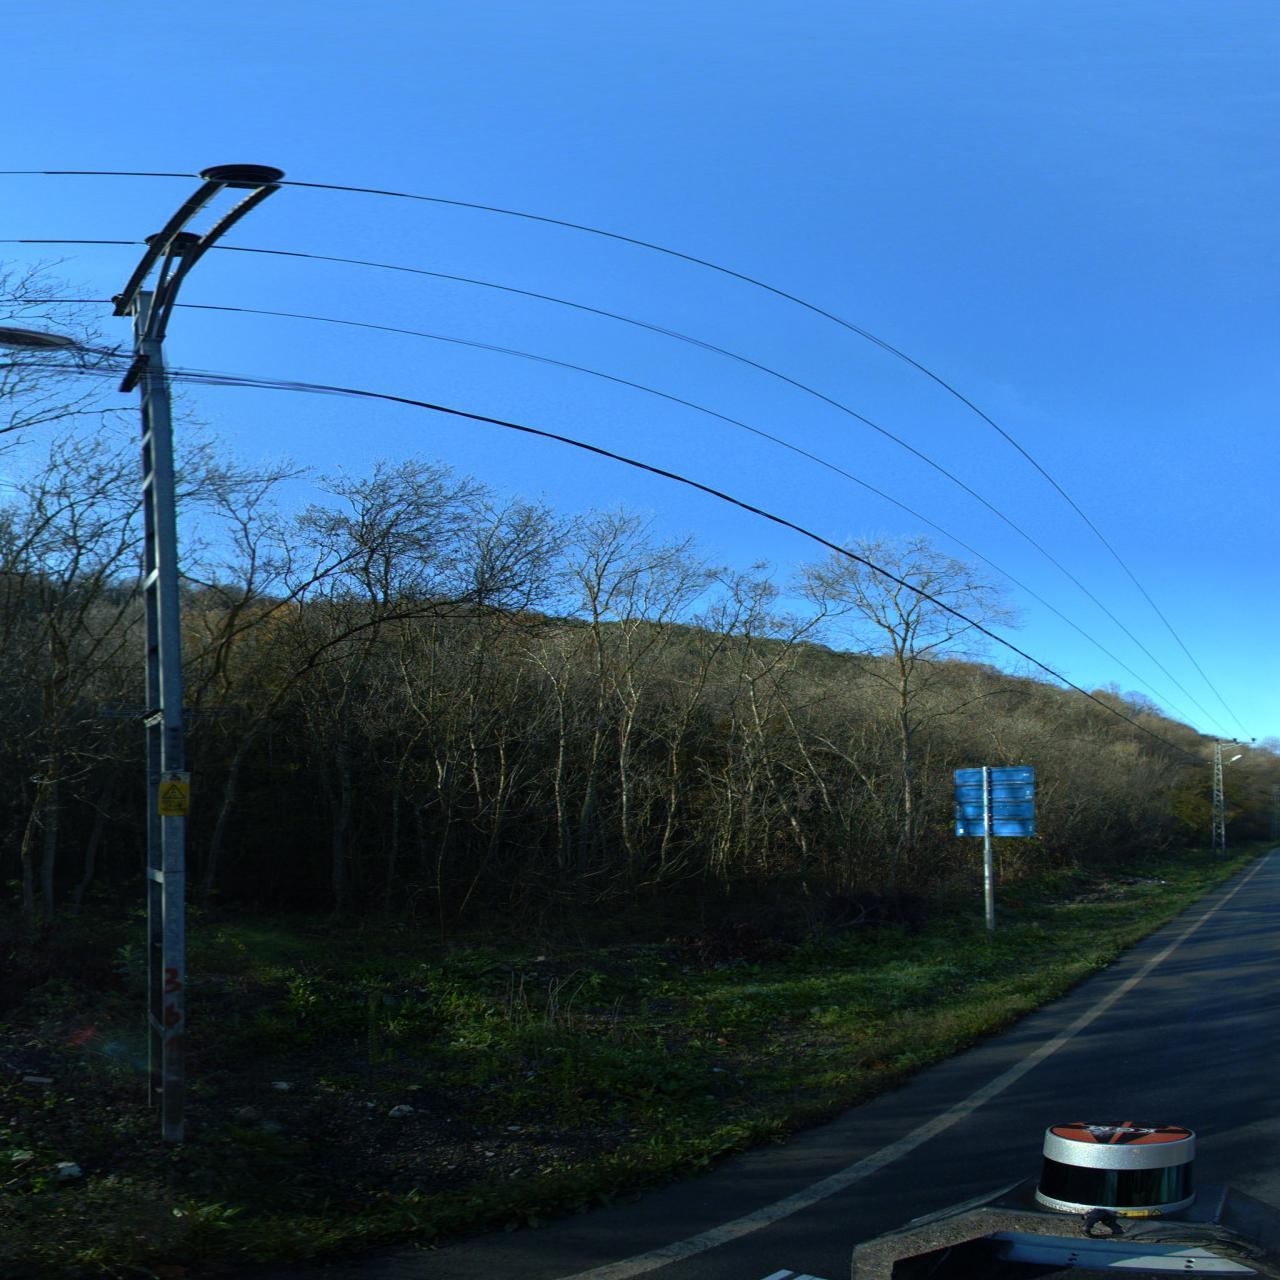Utility Pole Information Plate: (157, 782, 191, 816)
